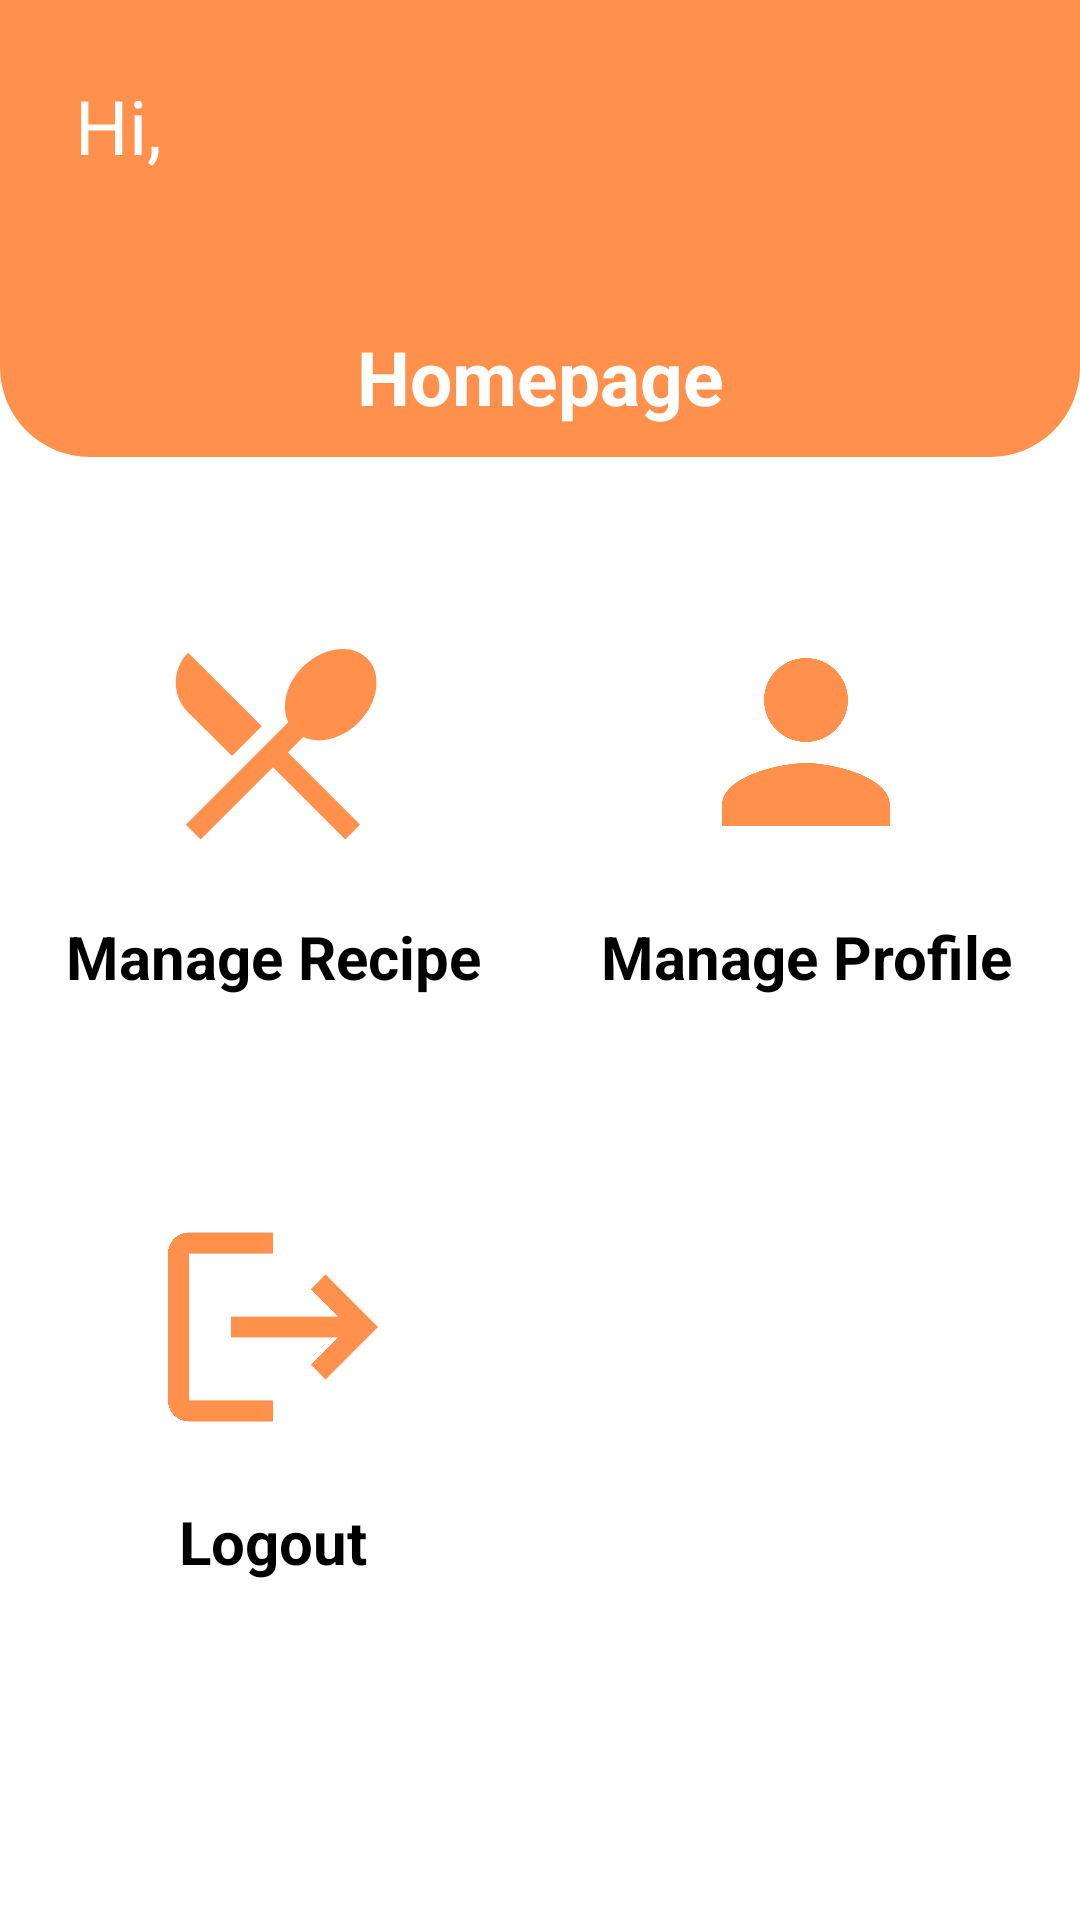

Screen size 1080 x 1920. Icon name, then its box in pixels as detection(x1, y1, x2, y2):
local dining: detection(175, 649, 377, 840)
person: detection(722, 658, 890, 826)
